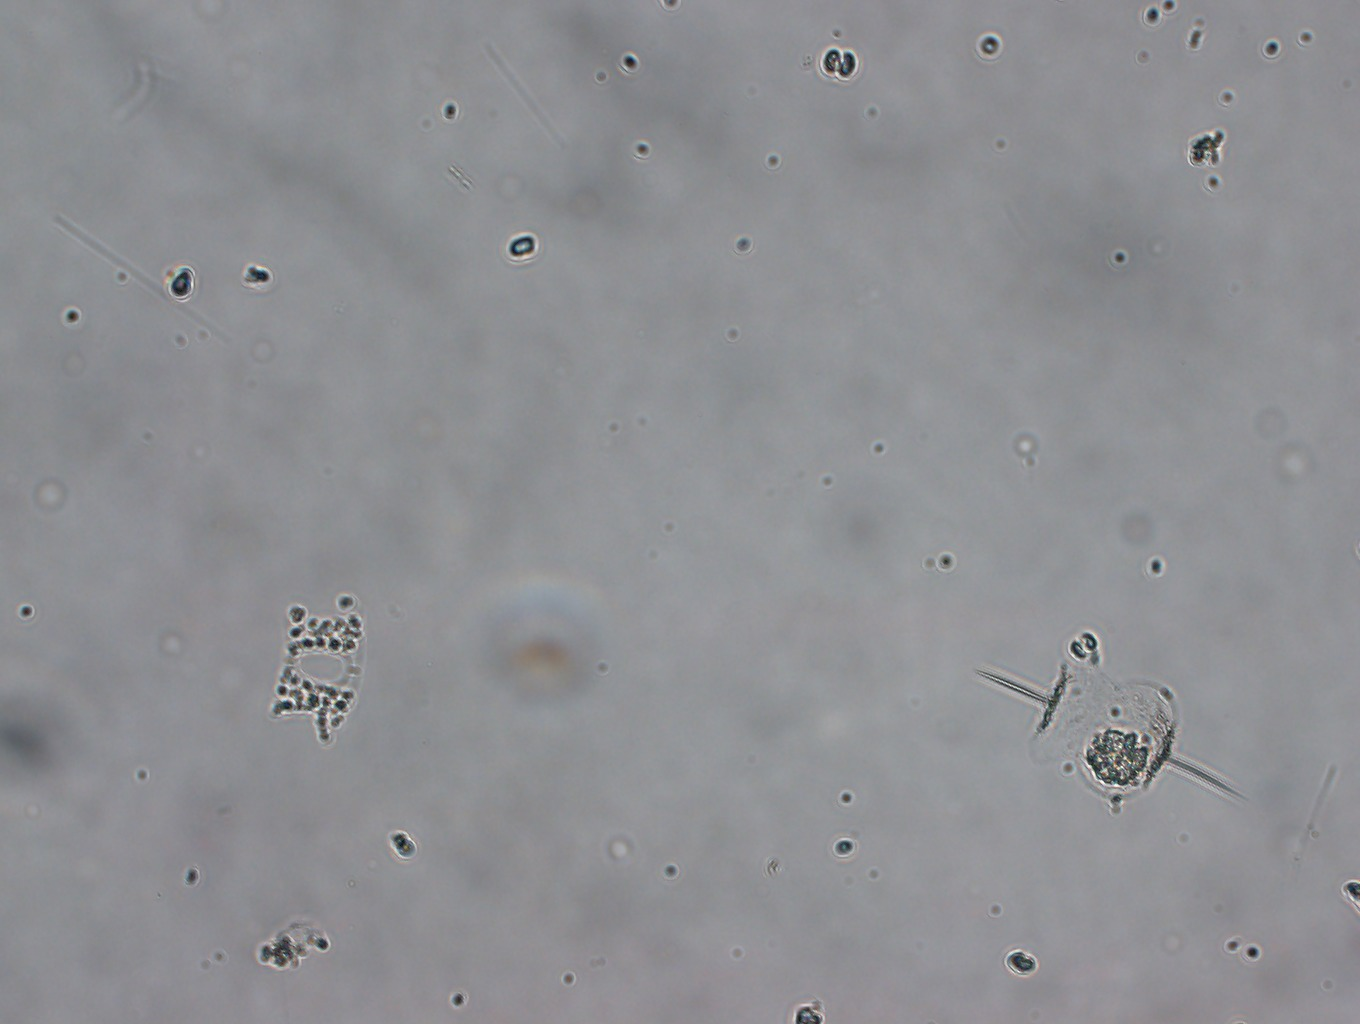ditylum: (967, 641, 1243, 817)
eucampia: (260, 583, 367, 745)
